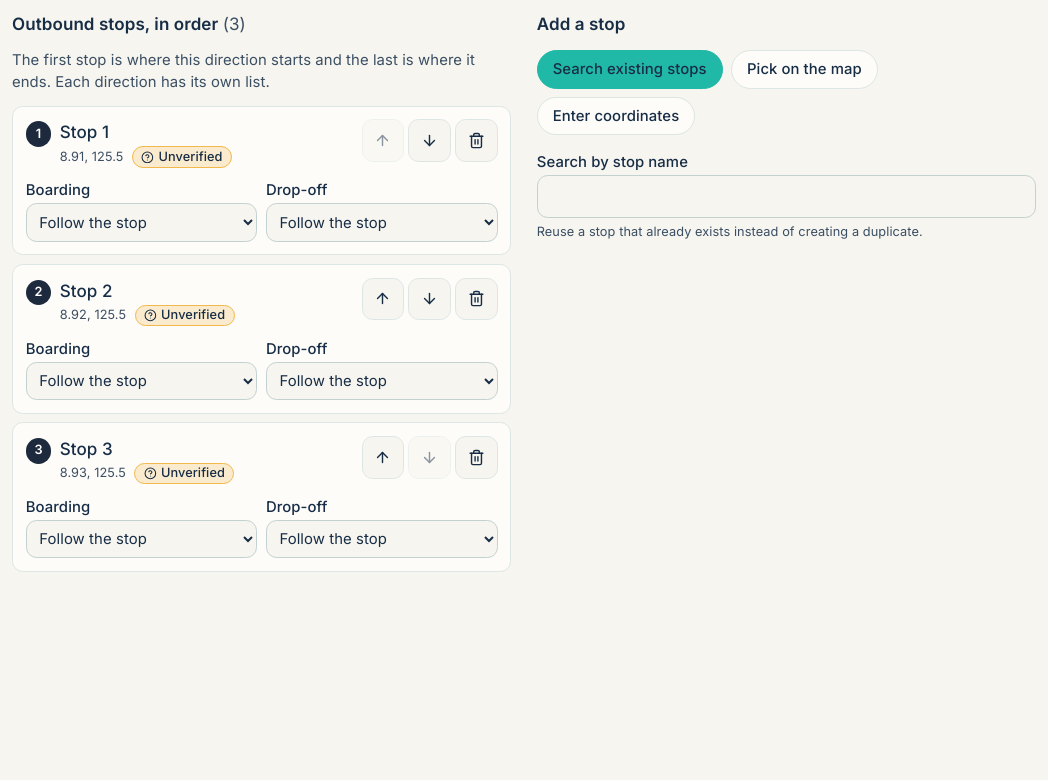
Test: adding by search › shows the number of matches and a search failure
In the search field labelled "Search by stop name": (786, 196) [537, 175, 1036, 218], type "x"
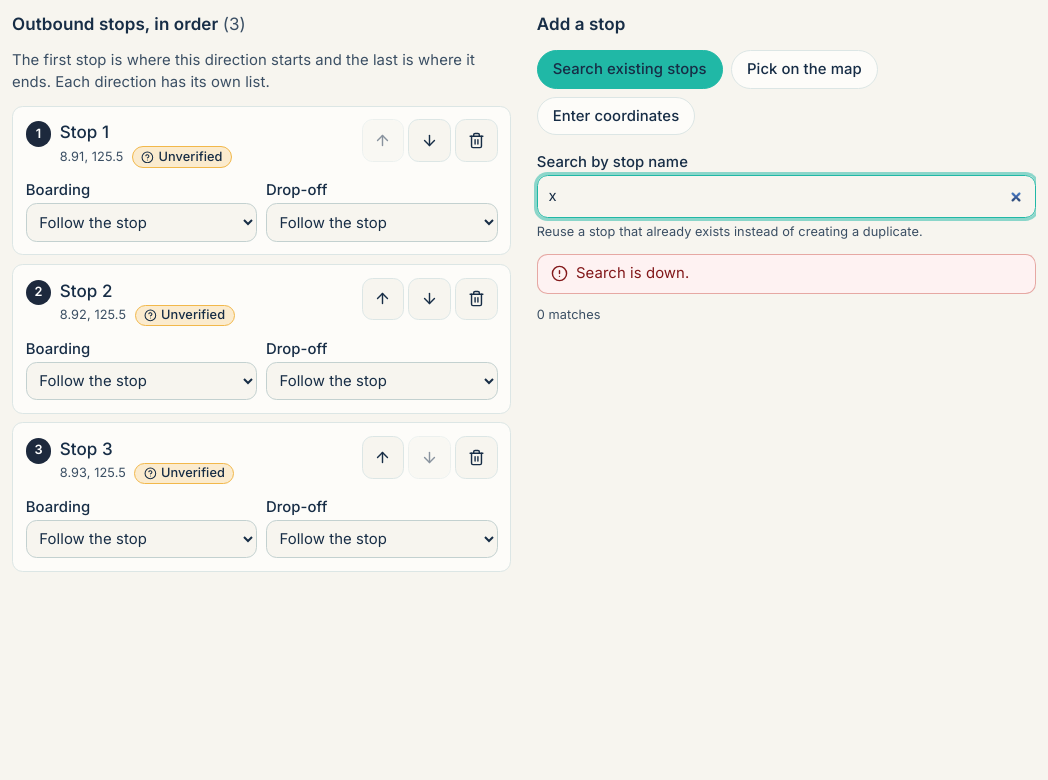
Expected: the text "Search is down." is shown, [576, 263, 689, 285]
